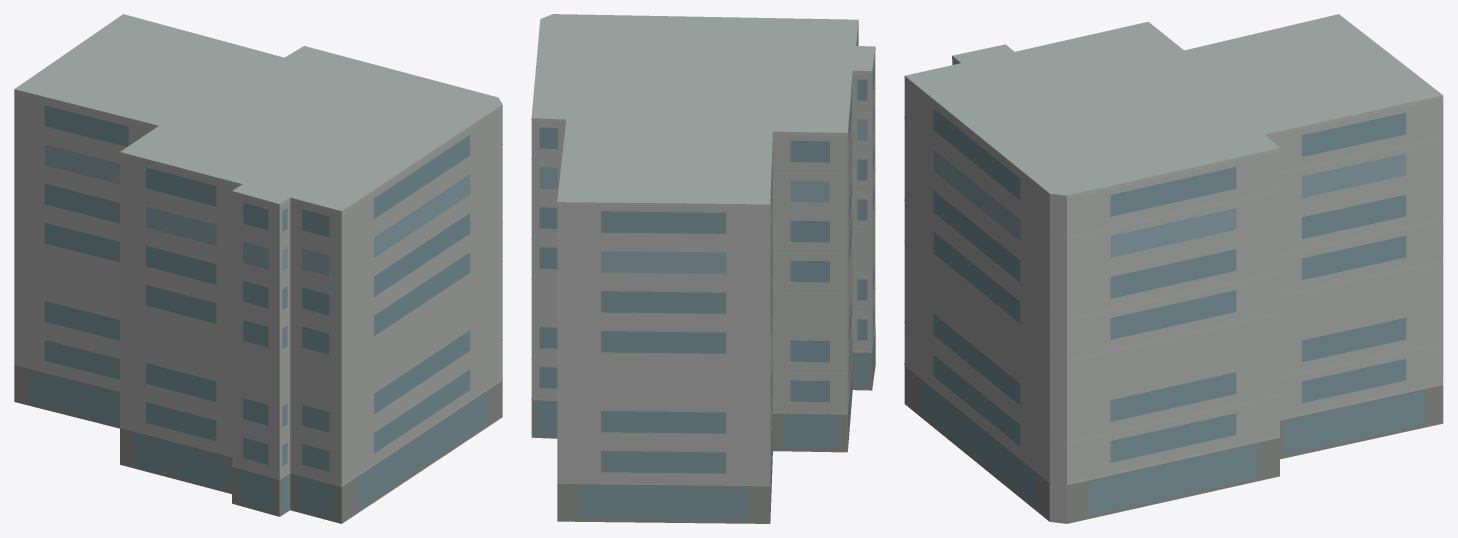
Rendered from survey-upis-32703237.glb.
The picture shows the model from 3 angles, left to right: view 1: azimuth 30°, elevation 25°; view 2: azimuth 150°, elevation 25°; view 3: azimuth 270°, elevation 25°; orthographic projection. The views are drawn at different scales.
Parts seen in each view (by area): view 1: survey-upis-32703237.tmp; view 2: survey-upis-32703237.tmp; view 3: survey-upis-32703237.tmp.
Part boxes in pixels (bbox=[...]): survey-upis-32703237.tmp: bbox=[14, 14, 502, 523]; survey-upis-32703237.tmp: bbox=[531, 14, 875, 523]; survey-upis-32703237.tmp: bbox=[904, 14, 1443, 523].
Size of the model in its own units: 26.73 by 22.5 by 33.49.
